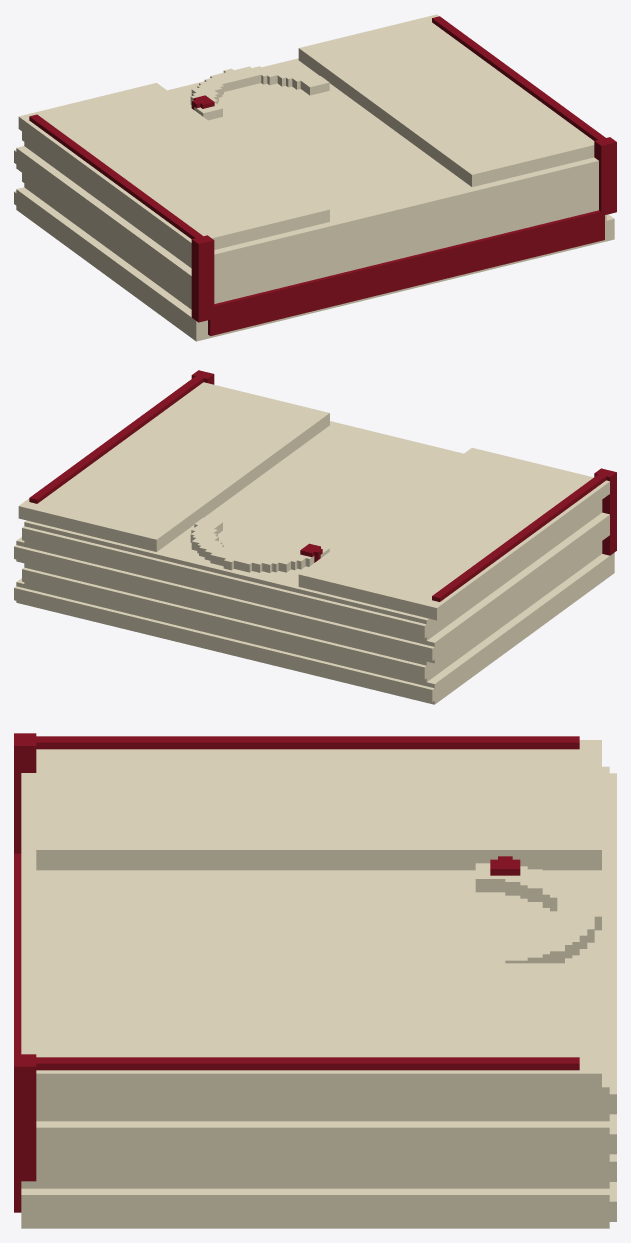
File: kariginu.glb
The picture shows the model from 3 angles, top to bottom: view 1: azimuth 30°, elevation 25°; view 2: azimuth 150°, elevation 25°; view 3: azimuth 270°, elevation 25°; orthographic projection. The views are drawn at different scales.
Visible parts, largest first — view 1: kariginu:compound; view 2: kariginu:compound; view 3: kariginu:compound.
Part boxes in pixels (x1,y1,x2,y2): kariginu:compound: (14, 14, 616, 341); kariginu:compound: (14, 370, 616, 704); kariginu:compound: (14, 733, 616, 1228).
Size of the model in its own units: 0.424 by 0.096 by 0.324.
